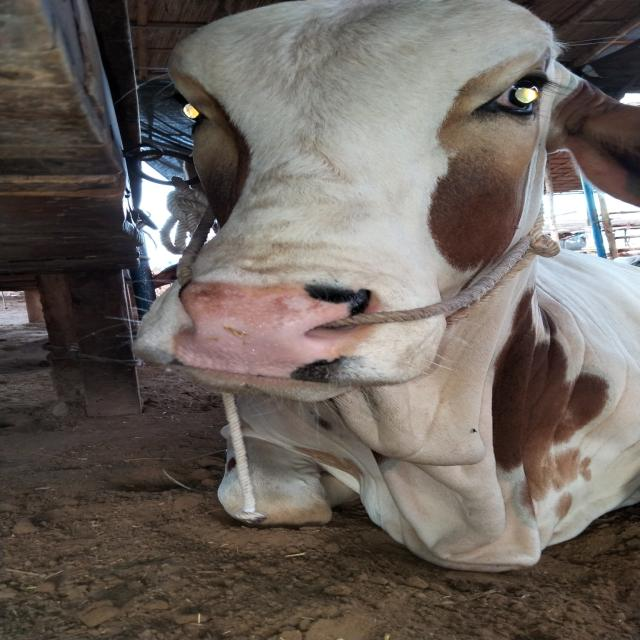muzzles: (148, 269, 398, 393)
